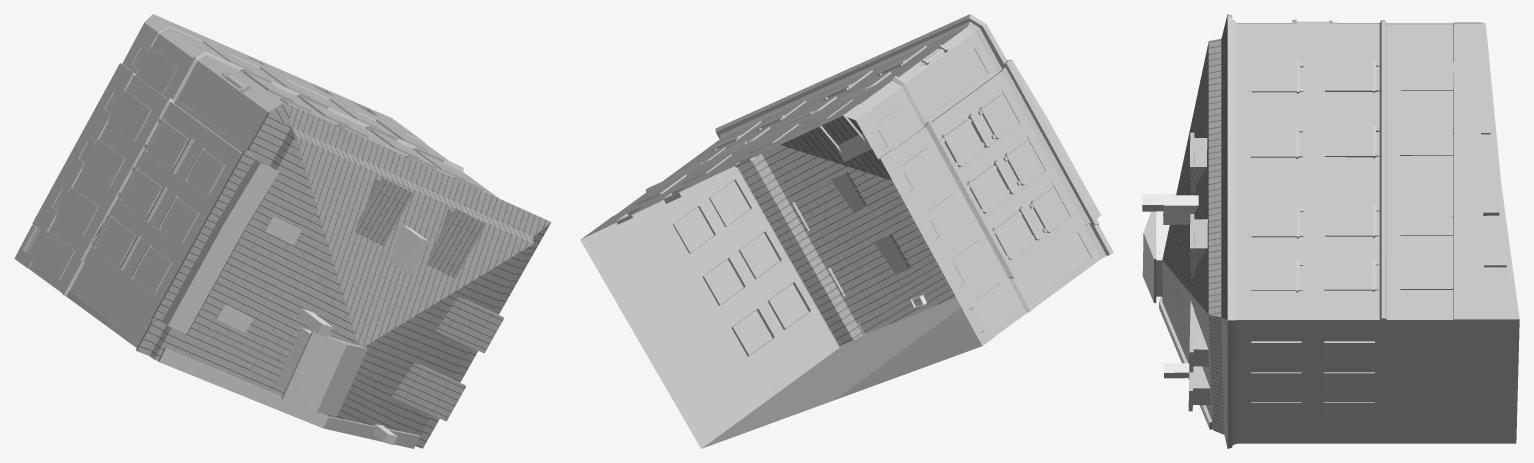
File: Pikk_48.obj
The picture shows the model from 3 angles, left to right: view 1: azimuth 30°, elevation 25°; view 2: azimuth 150°, elevation 25°; view 3: azimuth 270°, elevation 25°; orthographic projection. The views are drawn at different scales.
Visible parts, largest first — view 1: Pikk_48; view 2: Pikk_48; view 3: Pikk_48.
Boxes of the visible parts, bbox=[...] form: Pikk_48: bbox=[14, 14, 551, 448]; Pikk_48: bbox=[580, 14, 1113, 448]; Pikk_48: bbox=[1142, 14, 1519, 448].
Bounding box in the file's own units: 23.81 × 20.8 × 19.32.
